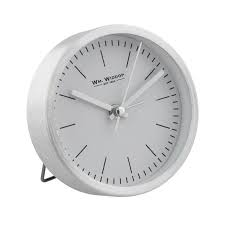alarm_clock: (26, 19, 199, 195), (26, 24, 199, 195), (31, 24, 199, 195)
